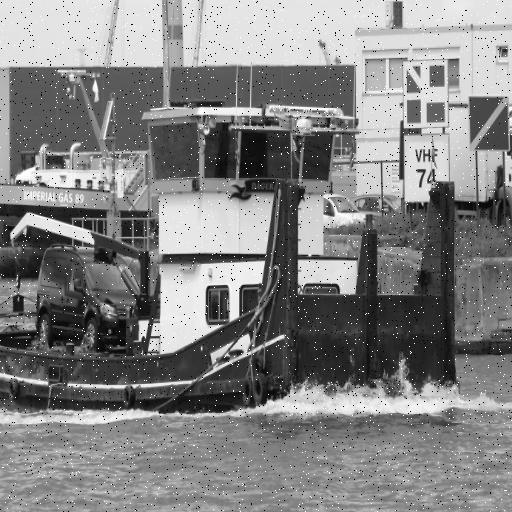tugboat: (1, 101, 466, 431)
